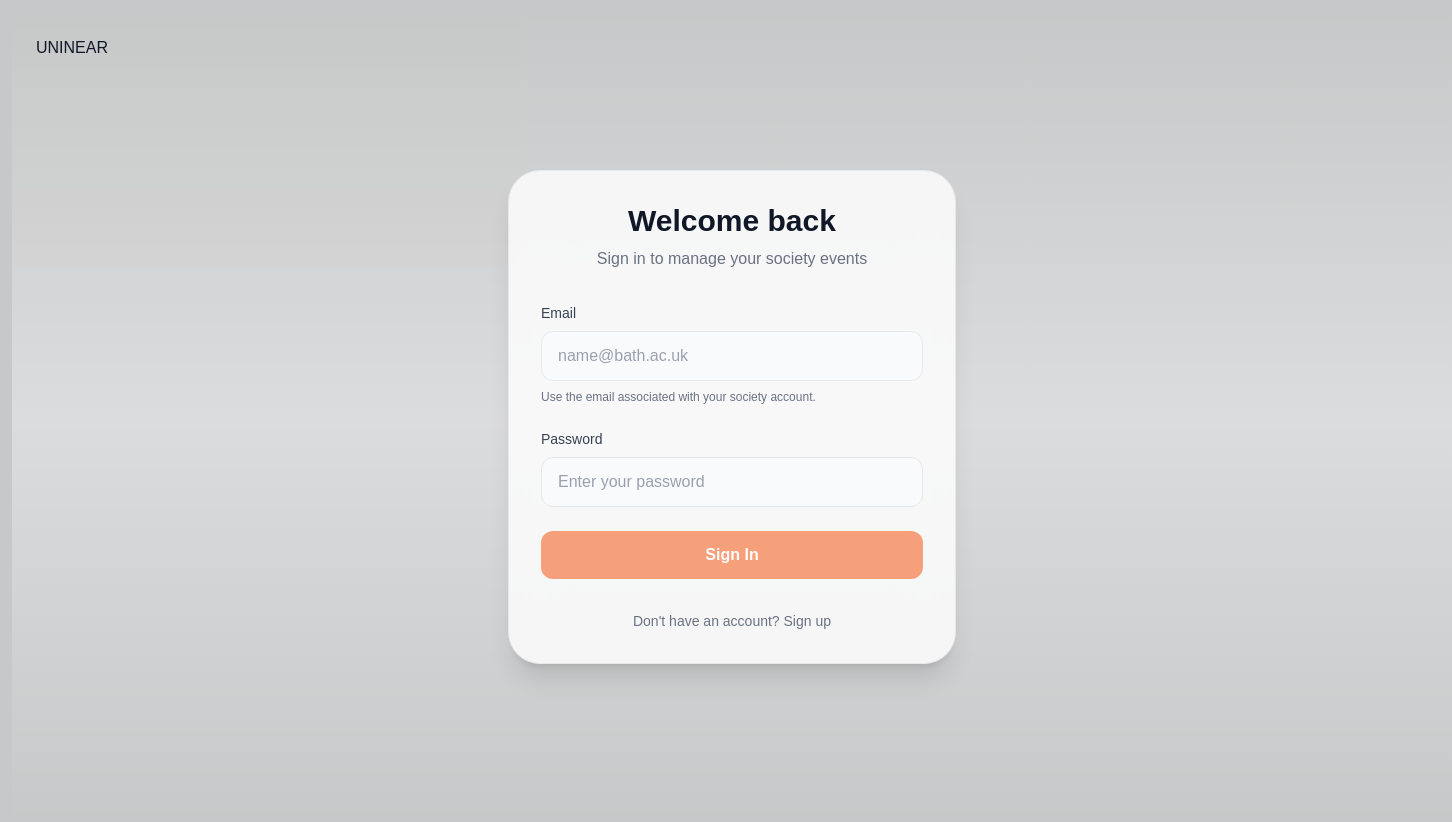
test_NFR08_user_login - Login Flow › AC2: shows loading state during submission
Type "test@bath.ac.uk" into the field labelled "Email".
click(732, 356); type("test@bath.ac.uk")  # box [541, 331, 923, 381]
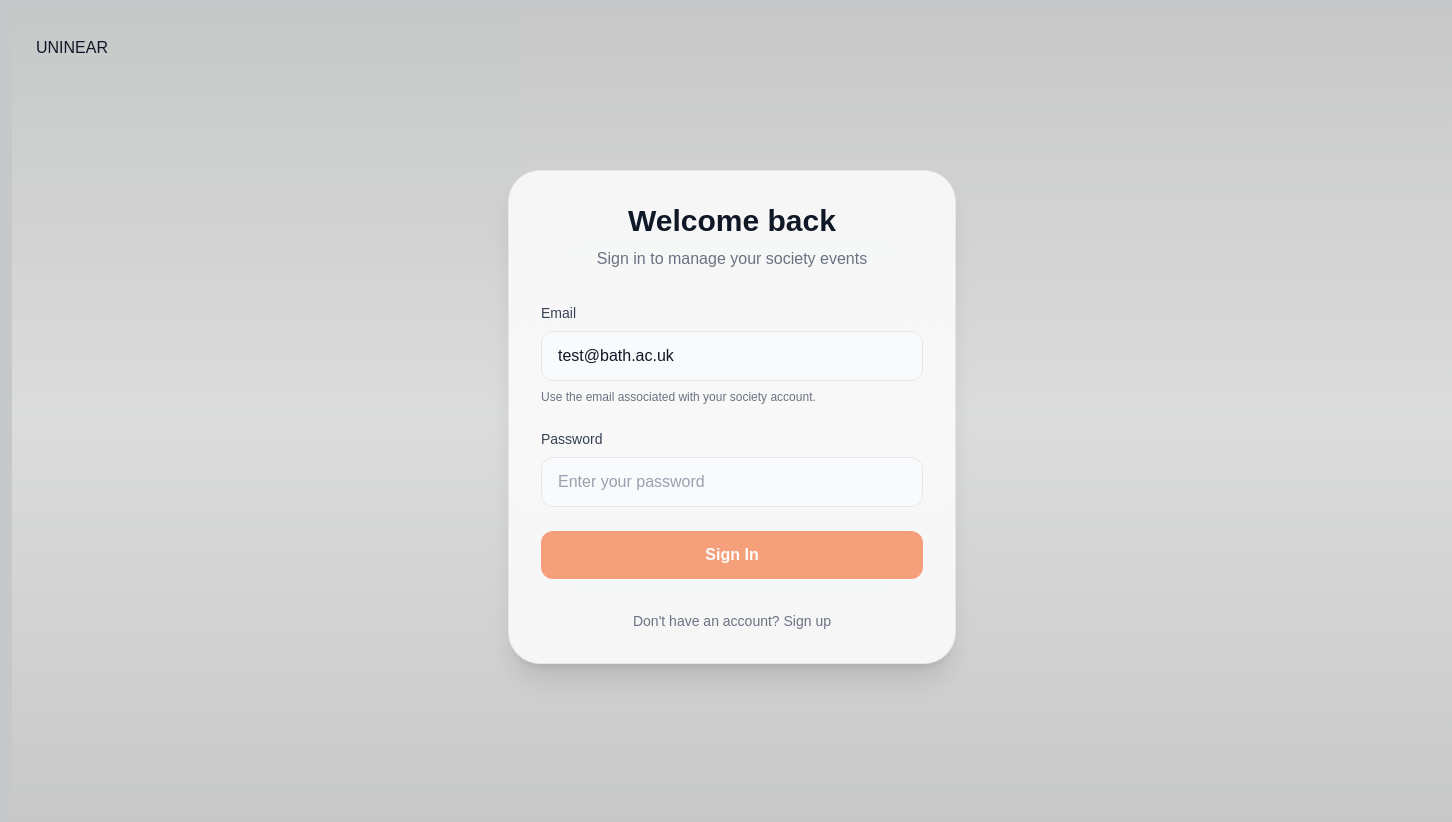
Type "strongpassword" into the password field labelled "Password".
click(732, 482); type("strongpassword")  # box [541, 457, 923, 507]
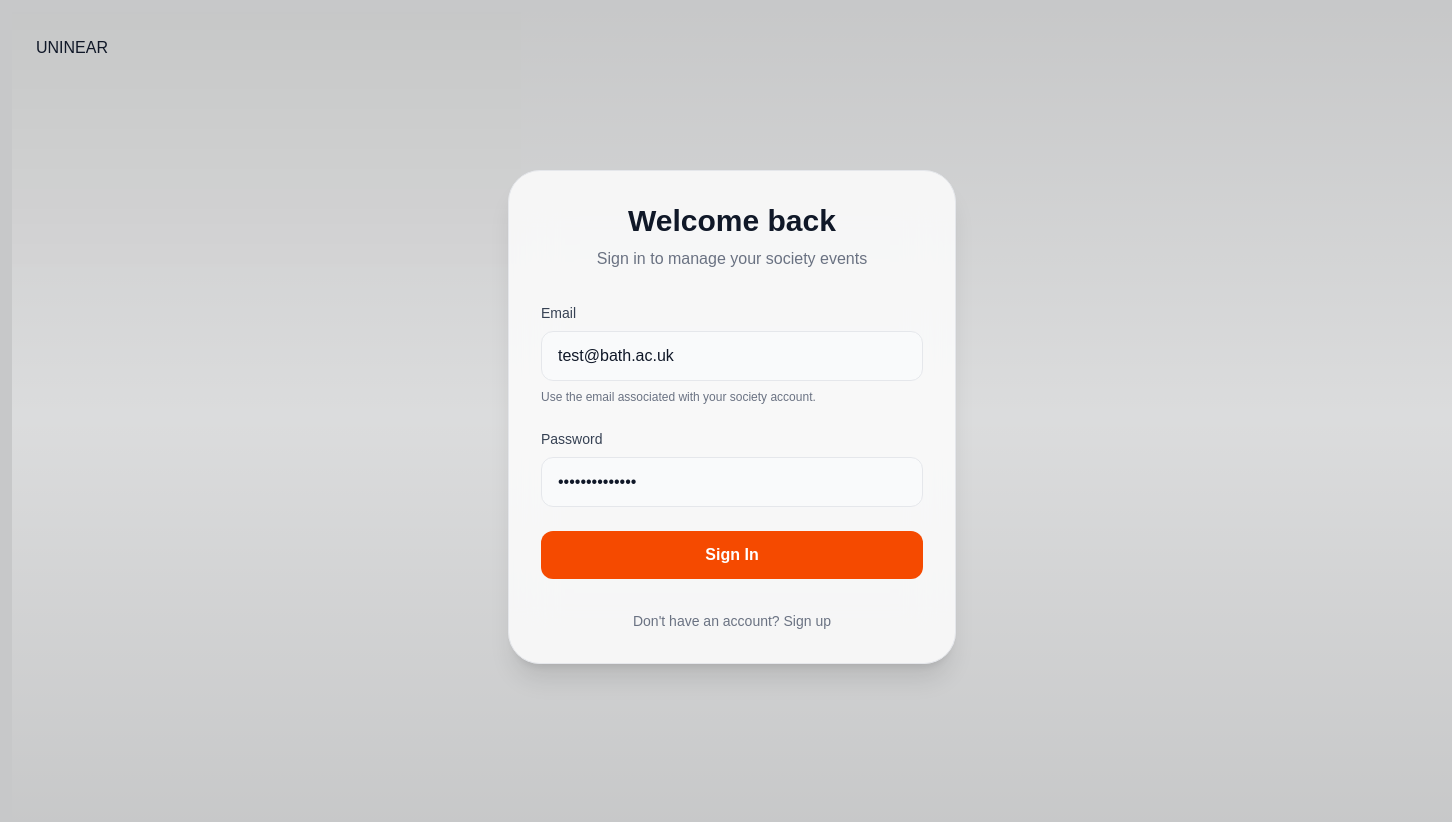
Click the button "Sign In".
click(732, 555)  # box [541, 531, 923, 579]
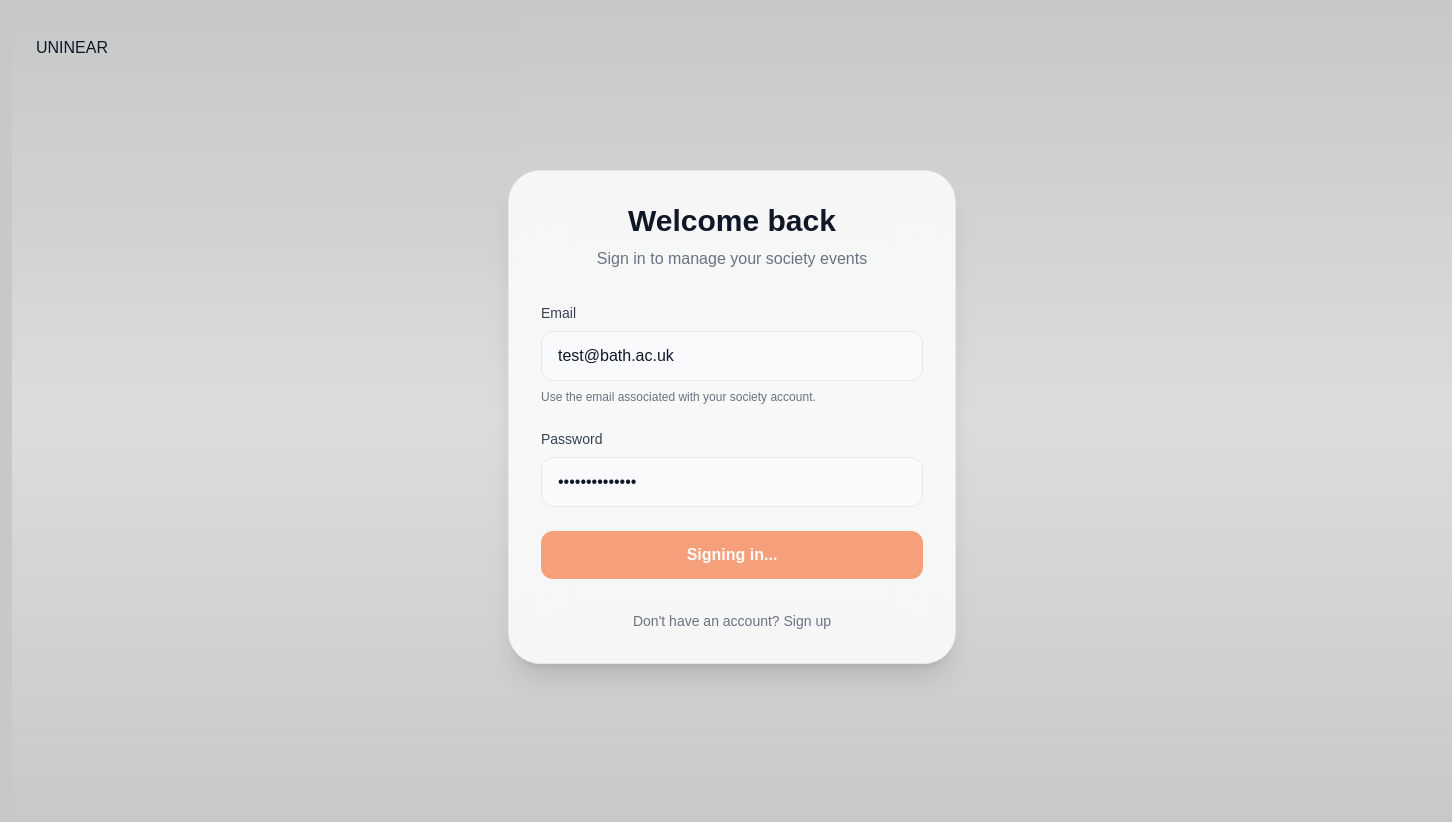
Check: the button "Signing in..." is disabled, box [541, 531, 923, 579]
